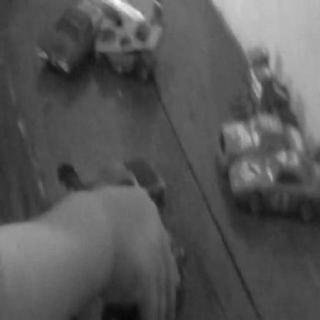other: (102, 13, 174, 71)
